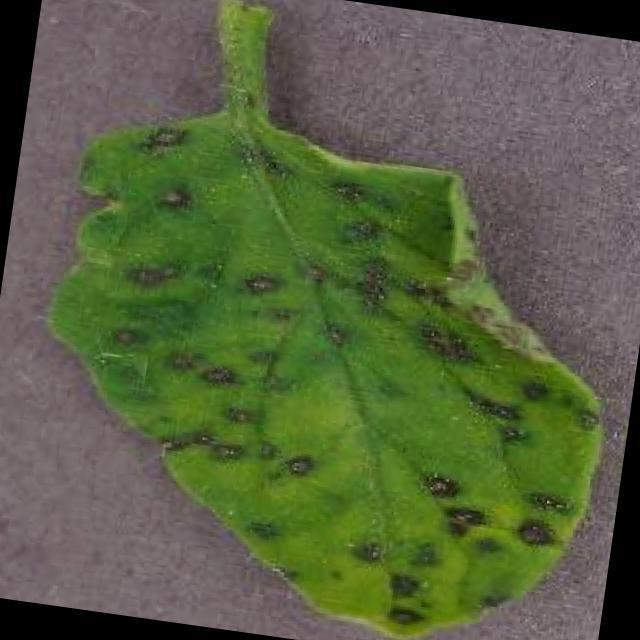Tomato Septoria spot leaf: (10, 93, 640, 640)
